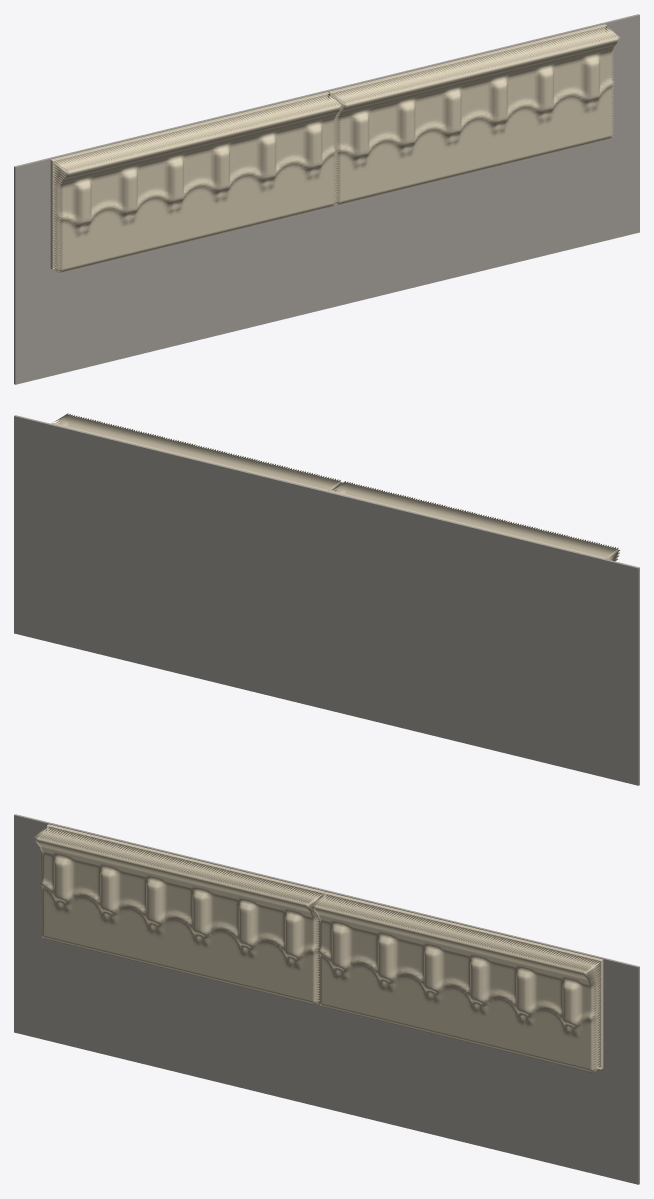
Rendered from terilgan.glb.
3 renders of one model, top to bottom at view 1: azimuth 30°, elevation 25°; view 2: azimuth 150°, elevation 25°; view 3: azimuth 330°, elevation 25°, orthographic.
Parts seen in each view (by area): view 1: Devor, t0, t1; view 2: Devor, t0, t1; view 3: Devor, t1, t0.
Part boxes in pixels (box(x1,y1,x2,y2)): Devor: box(14, 14, 639, 384); t0: box(50, 92, 342, 273); t1: box(328, 24, 620, 205); Devor: box(14, 415, 639, 785); t0: box(328, 481, 619, 561); t1: box(51, 413, 342, 491); Devor: box(14, 814, 639, 1184); t1: box(311, 892, 603, 1073); t0: box(33, 824, 325, 1005).
Size of the model in its own units: 2.71 by 0.9 by 0.1271.
